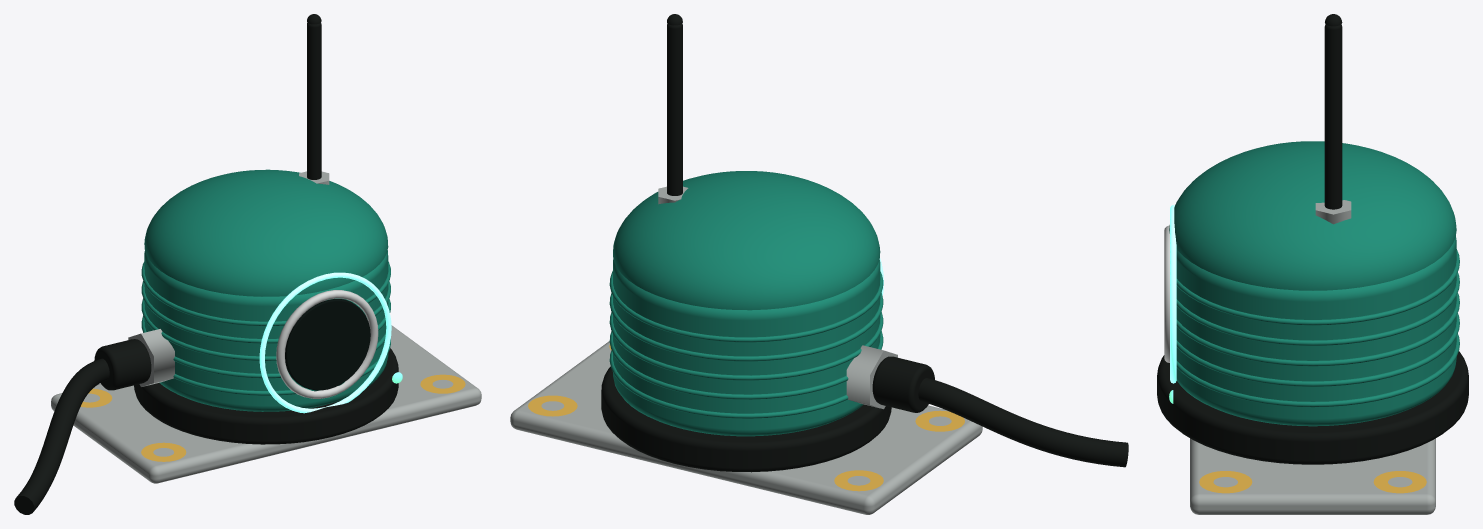
Rendered from sensor-node.glb.
3 renders of one model, left to right at view 1: azimuth 30°, elevation 25°; view 2: azimuth 150°, elevation 25°; view 3: azimuth 270°, elevation 25°, orthographic. The views are drawn at different scales.
Visible parts, largest first — view 1: housing, bracket, gland, antenna, hole (×2); view 2: housing, bracket, gland, antenna, hole (×2); view 3: housing, bracket, antenna, hole (×2).
Part boxes in pixels (x1,y1,x2,y2): housing: (134, 169, 402, 444); bracket: (51, 325, 481, 483); gland: (14, 329, 174, 514); antenna: (299, 14, 329, 184); hole (×2): (141, 374, 465, 461); housing: (601, 171, 891, 472); bracket: (510, 341, 982, 514); gland: (846, 345, 1128, 467); antenna: (658, 14, 688, 204); hole (×2): (528, 395, 883, 491); housing: (1157, 141, 1468, 464); bracket: (1190, 438, 1435, 514); antenna: (1315, 14, 1351, 224); hole (×2): (1199, 471, 1426, 493).
Size of the model in its own units: 6.18 by 4.74 by 3.04.
